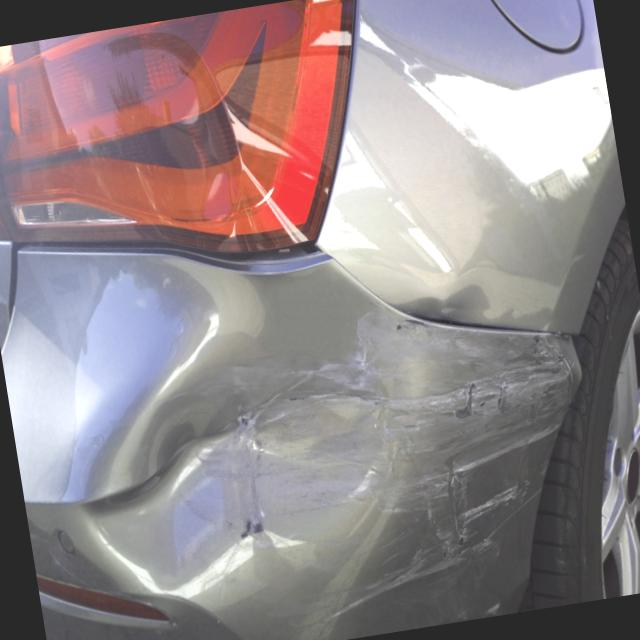Cabossage: (83, 366, 266, 620)
Dechirure: (0, 249, 36, 342)
Phare abime: (0, 179, 150, 271)
Rayure: (183, 290, 620, 640)
